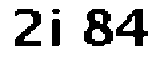2: (10, 6, 45, 53)
4: (115, 1, 151, 49)
8: (82, 6, 116, 49)
i: (49, 6, 67, 52)
